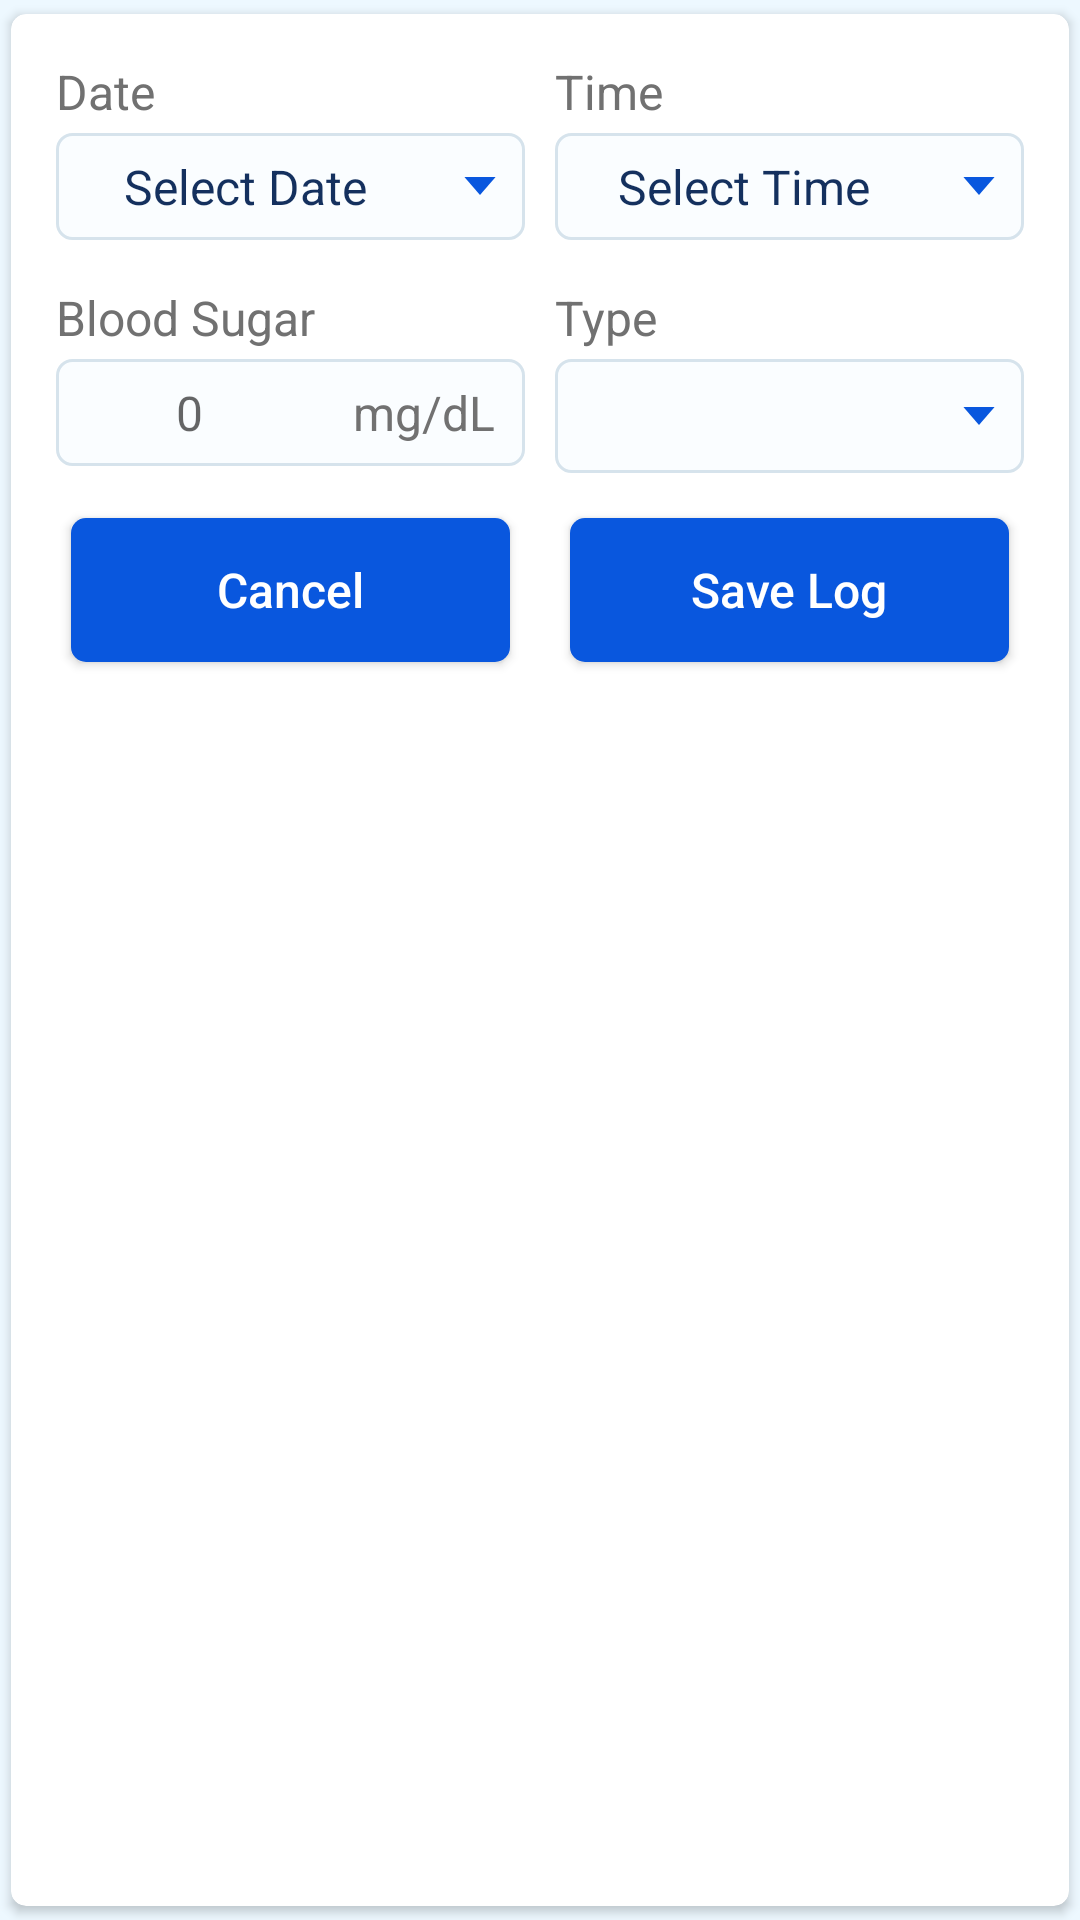

Point at icon controls on the screen. Image size 1080px x 1920px, points as [x,y].
down arrow: [480,186], [979,186], [979,416]
